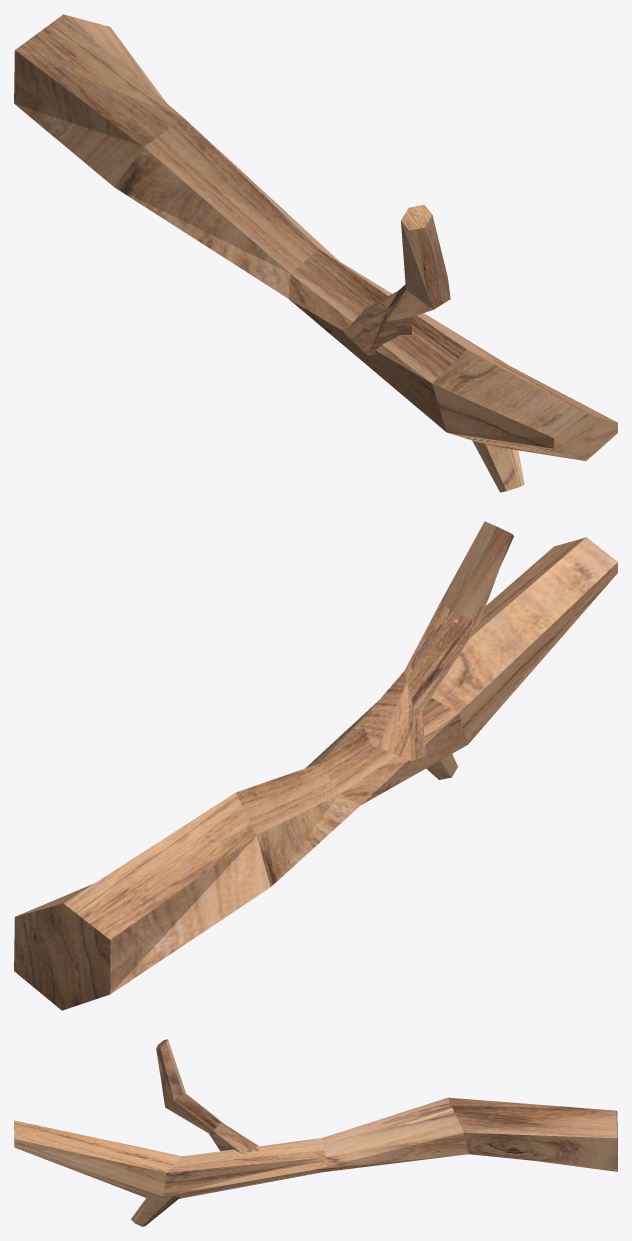
Rendered from right.gltf.
3 views of the same model, one above another, from view 1: azimuth 30°, elevation 25°; view 2: azimuth 150°, elevation 25°; view 3: azimuth 270°, elevation 25° (orthographic). The views are drawn at different scales.
Visible parts, largest first — view 1: Cylinder.002; view 2: Cylinder.002; view 3: Cylinder.002.
Part boxes in pixels (x1=…): Cylinder.002: x1=14, y1=14, x2=617, y2=492; Cylinder.002: x1=14, y1=521, x2=617, y2=1010; Cylinder.002: x1=14, y1=1039, x2=617, y2=1226.
Bounding box in the file's own units: 20.12 × 39.9 × 132.
1 material, 1 textured.
